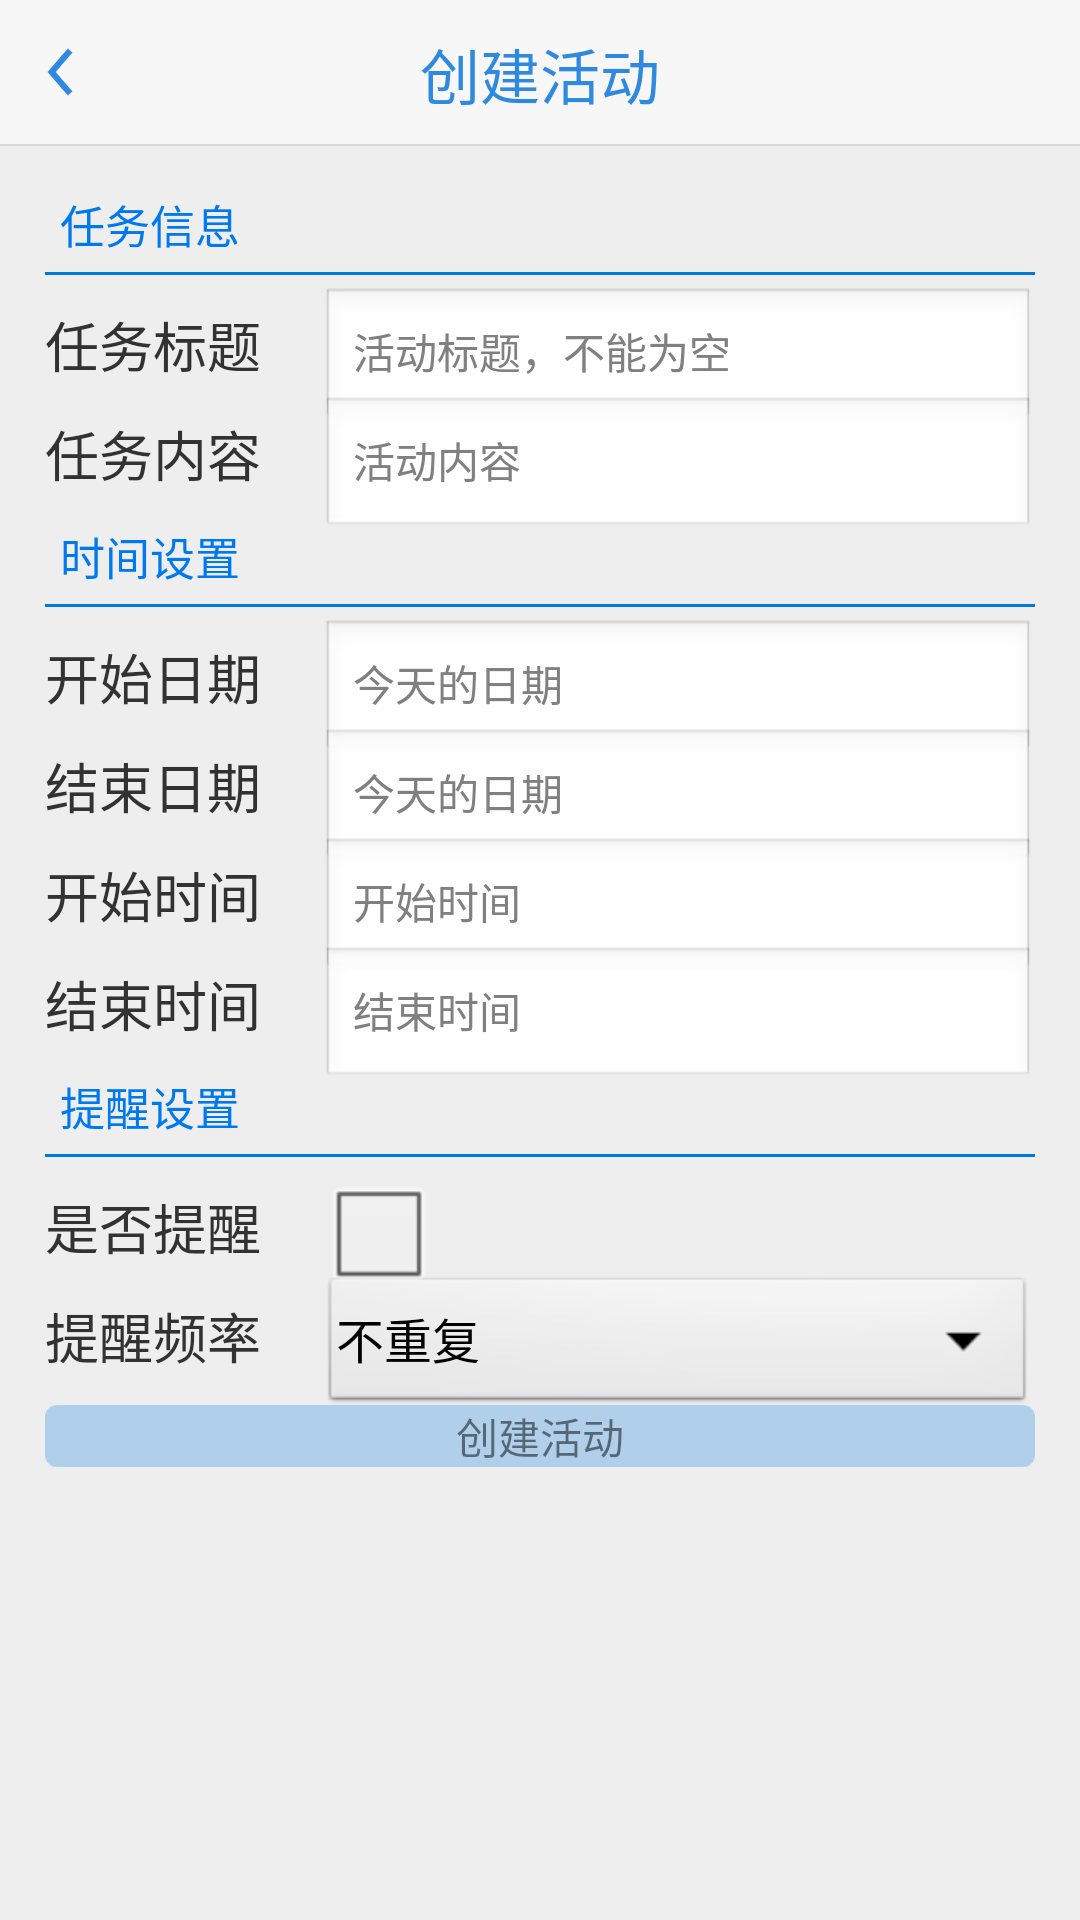

Icons on this 1080x1920 Android screen, each with the point to tap as (x,y):
navigation previous item: (60,72)
